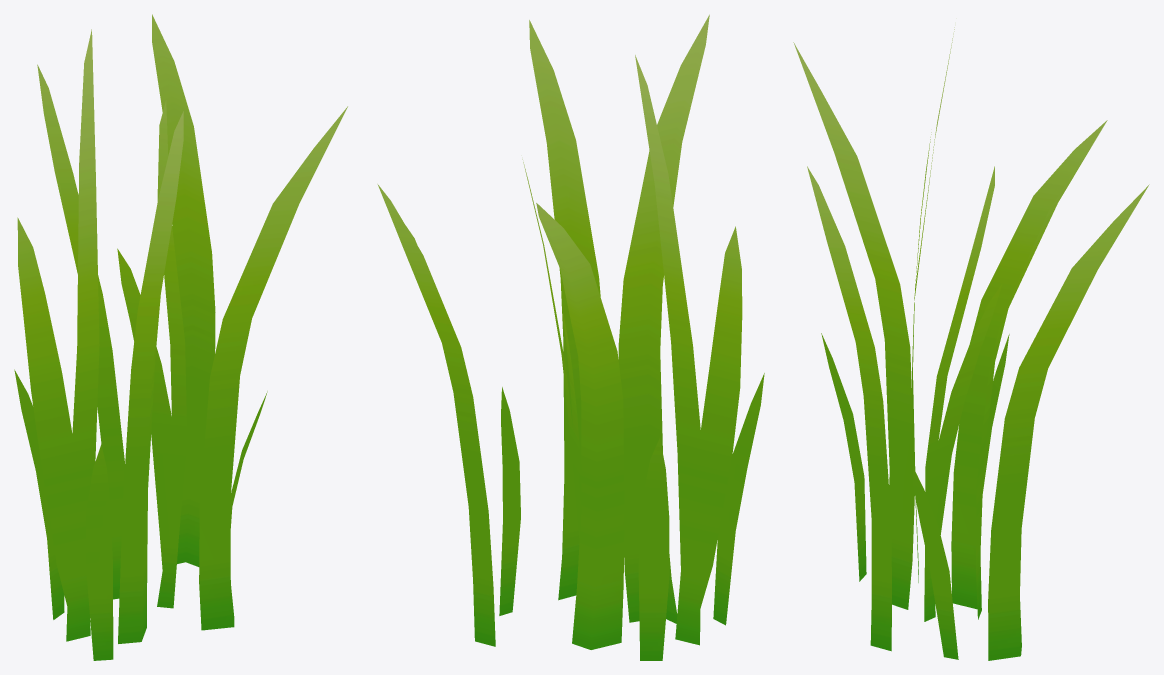
The model's file is Grass_Common_Short.gltf.
3 views of the same model, side by side, from view 1: azimuth 30°, elevation 25°; view 2: azimuth 150°, elevation 25°; view 3: azimuth 270°, elevation 25° (orthographic). The views are drawn at different scales.
Visible parts, largest first — view 1: Grass_Common_Short; view 2: Grass_Common_Short; view 3: Grass_Common_Short.
Boxes of the visible parts, left/top/right/bottom form: Grass_Common_Short: left=14, top=14, right=347, bottom=660; Grass_Common_Short: left=377, top=14, right=764, bottom=660; Grass_Common_Short: left=793, top=27, right=1149, bottom=660.
Size of the model in its own units: 0.6388 by 1.33 by 0.7373.
1 material, 1 textured.
